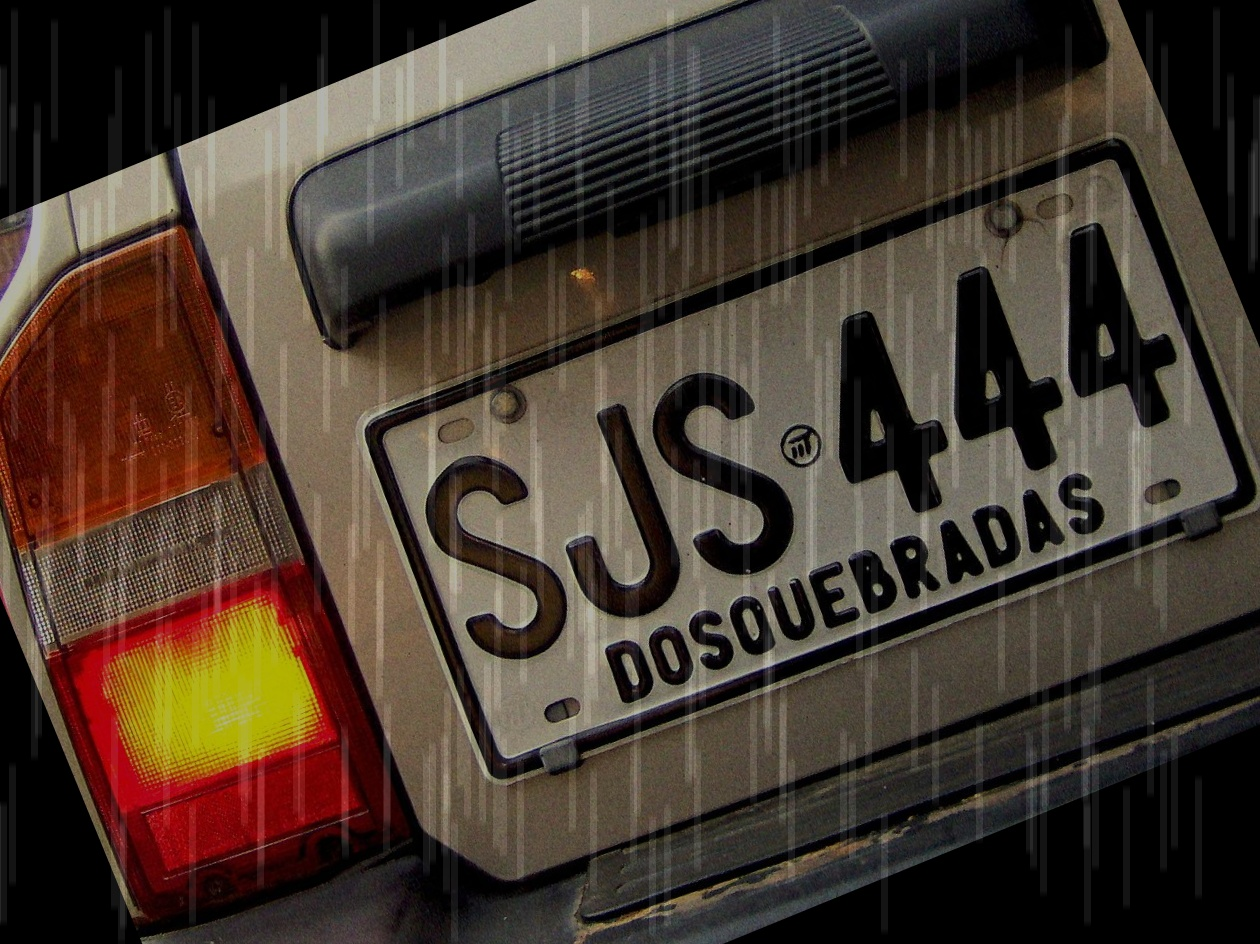placas: (327, 81, 1260, 830)
